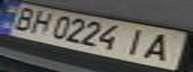0: (45, 13, 72, 42)
2: (63, 16, 87, 46), (81, 18, 103, 50)
4: (96, 21, 127, 53)
A: (136, 29, 187, 63)
B: (3, 4, 42, 32)
H: (21, 8, 57, 36)
I: (118, 25, 154, 57)
